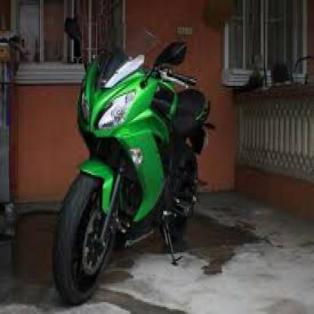Motocicleta: (51, 6, 212, 310)
